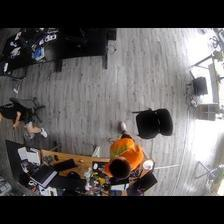normal: (100, 119, 146, 180), (1, 97, 50, 144)
